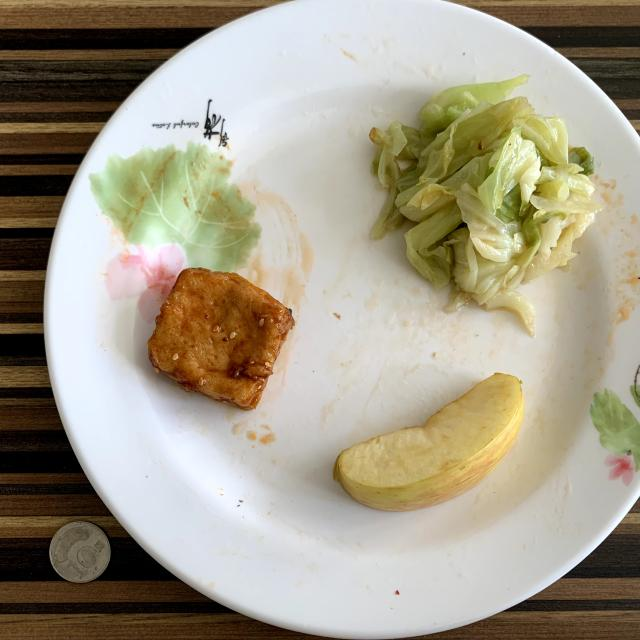apple -sliced-: (334, 372, 524, 511)
cabbage: (370, 76, 601, 335)
coin: (50, 521, 110, 582)
creamy tofu: (148, 268, 294, 410)
